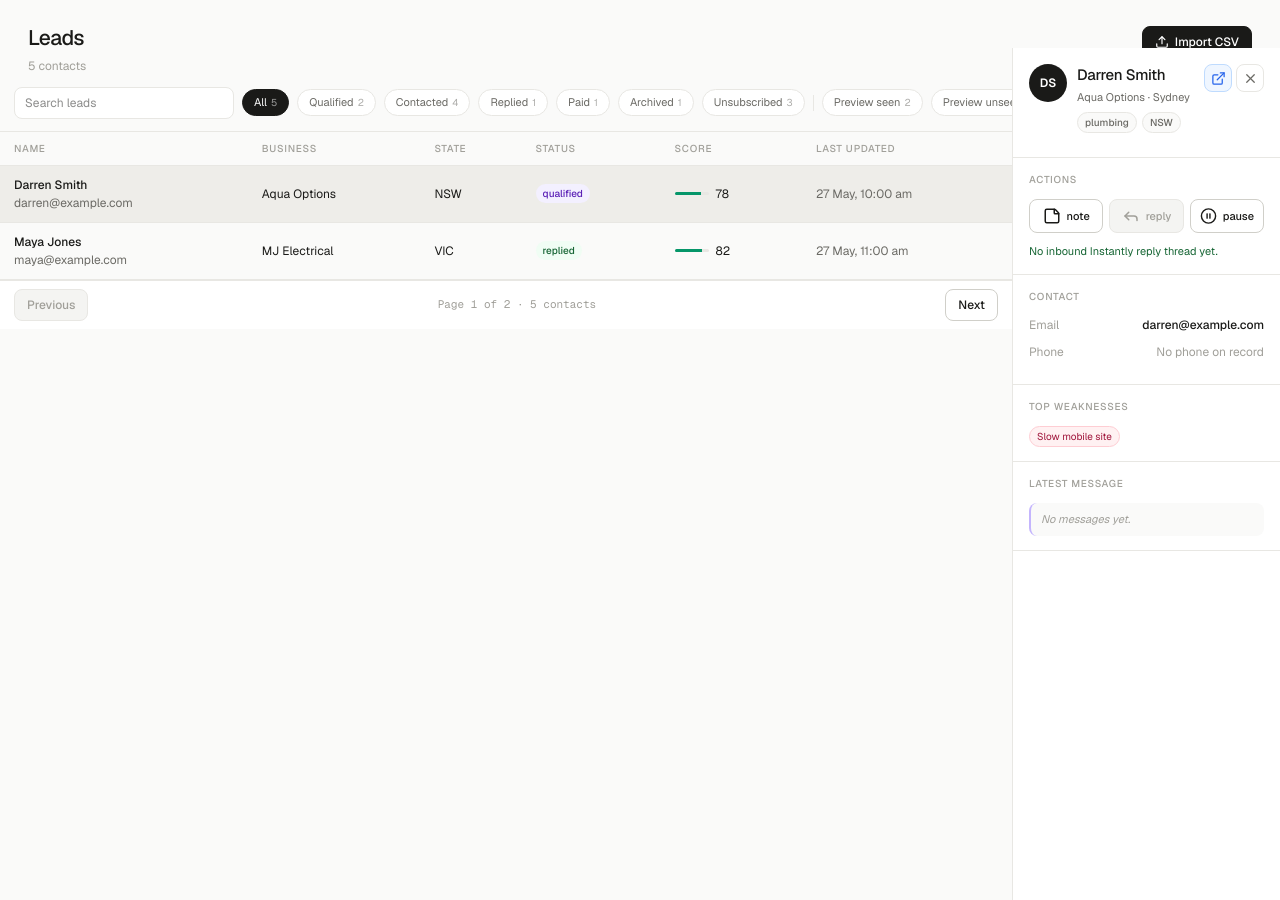
Test: LeadsWorkbench › shows an error state and keeps the current rows when a filter fetch fails
The width and height of the screenshot is (1280, 900).
Click the button "Archived1" at {"x": 656, "y": 103}, box [618, 89, 694, 116]
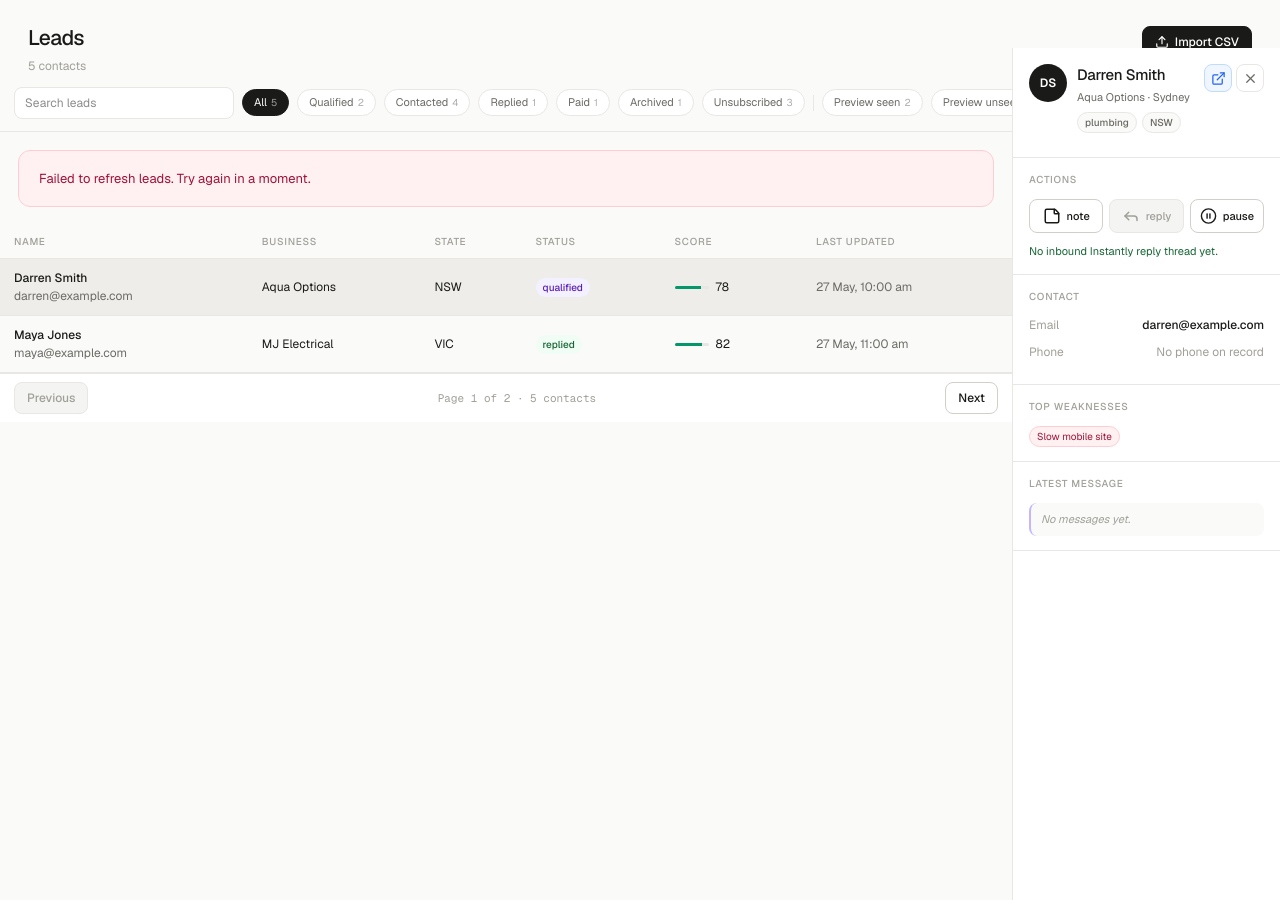
Expected: the text "Aqua Options · Sydney" is shown, [1077, 88, 1192, 105]
Now the text "Failed to refresh leads. Try again in a moment." is shown, box [18, 150, 994, 207]
